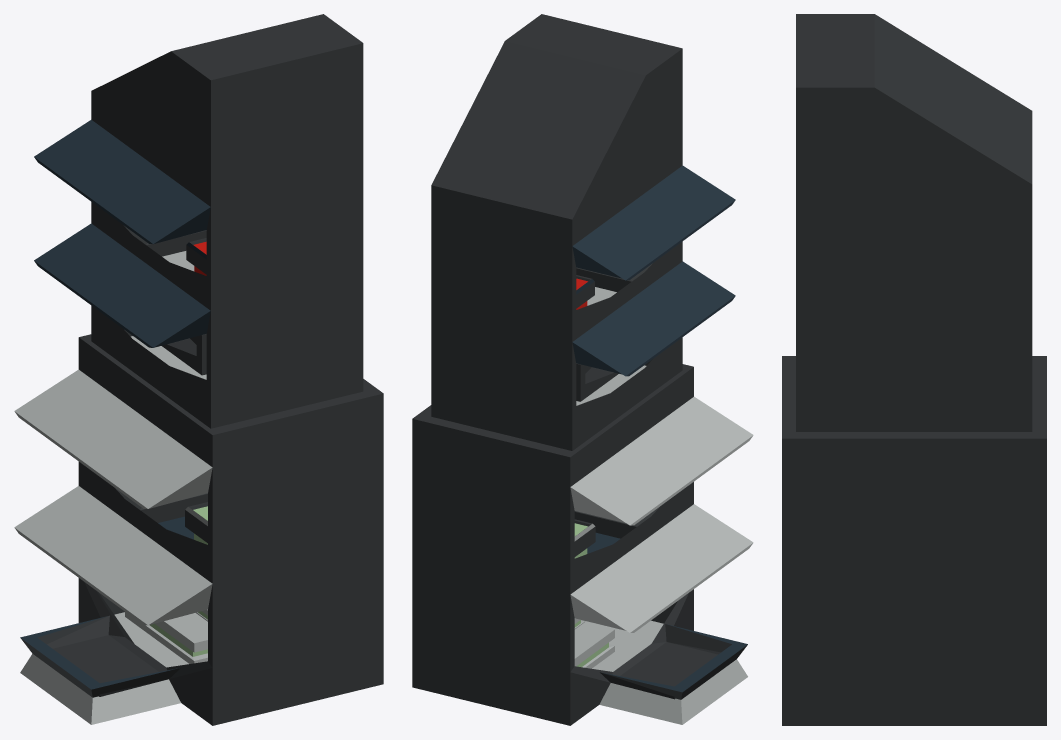
Rendered from BuildingStack1.fbx.
3 renders of one model, left to right at view 1: azimuth 30°, elevation 25°; view 2: azimuth 150°, elevation 25°; view 3: azimuth 270°, elevation 25°, orthographic. The views are drawn at different scales.
Parts seen in each view (by area): view 1: Cube.177, Cube.178; view 2: Cube.178, Cube.177; view 3: Cube.178, Cube.177.
Part boxes in pixels (x1,y1,x2,y2): Cube.177: (14,334,383,725); Cube.178: (34,14,363,428); Cube.178: (431,14,735,450); Cube.177: (412,364,753,725); Cube.178: (796,14,1032,431); Cube.177: (782,356,1046,725).
Bounding box in the file's own units: 807 × 1887 × 717.
